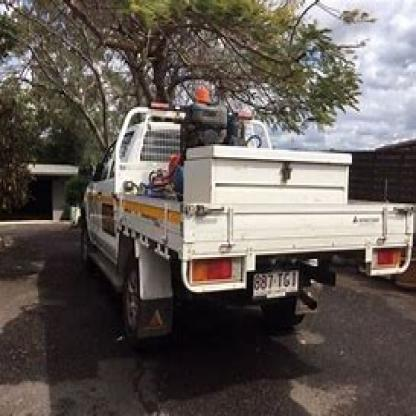light_vehicle: (64, 78, 413, 338)
